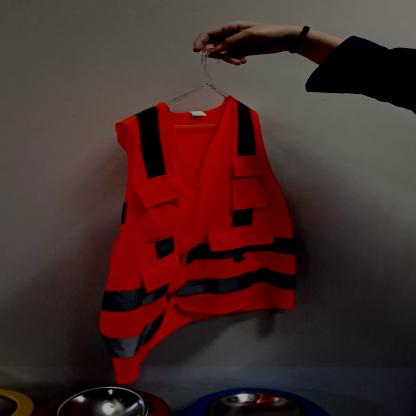colete: (98, 98, 304, 380)
